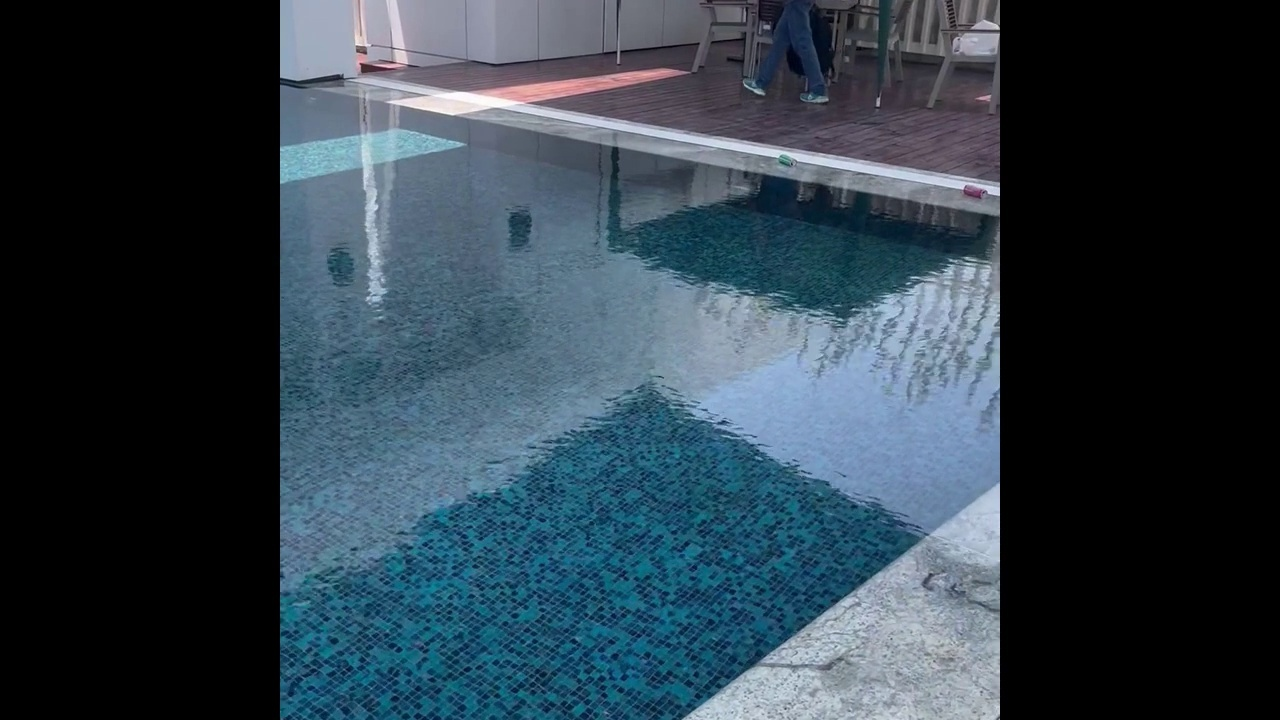debris: (776, 150, 800, 173), (962, 179, 988, 200)
